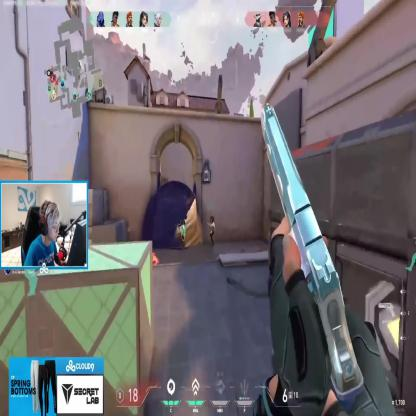enemy: (207, 216, 215, 247), (178, 219, 185, 248)
enemy_head: (210, 218, 214, 224), (180, 220, 183, 226)
